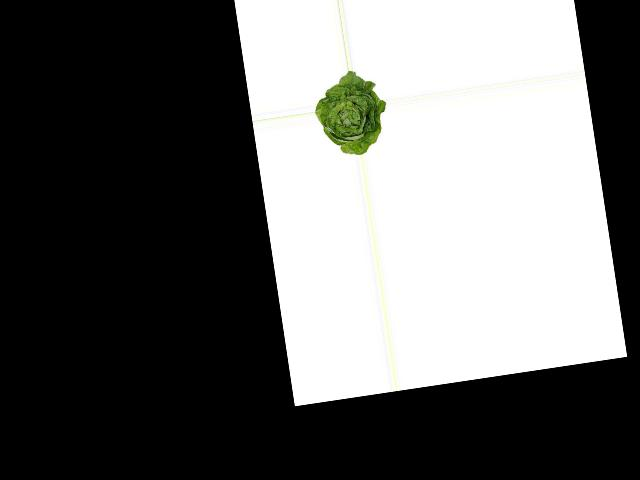lettuce: (311, 68, 392, 160)
